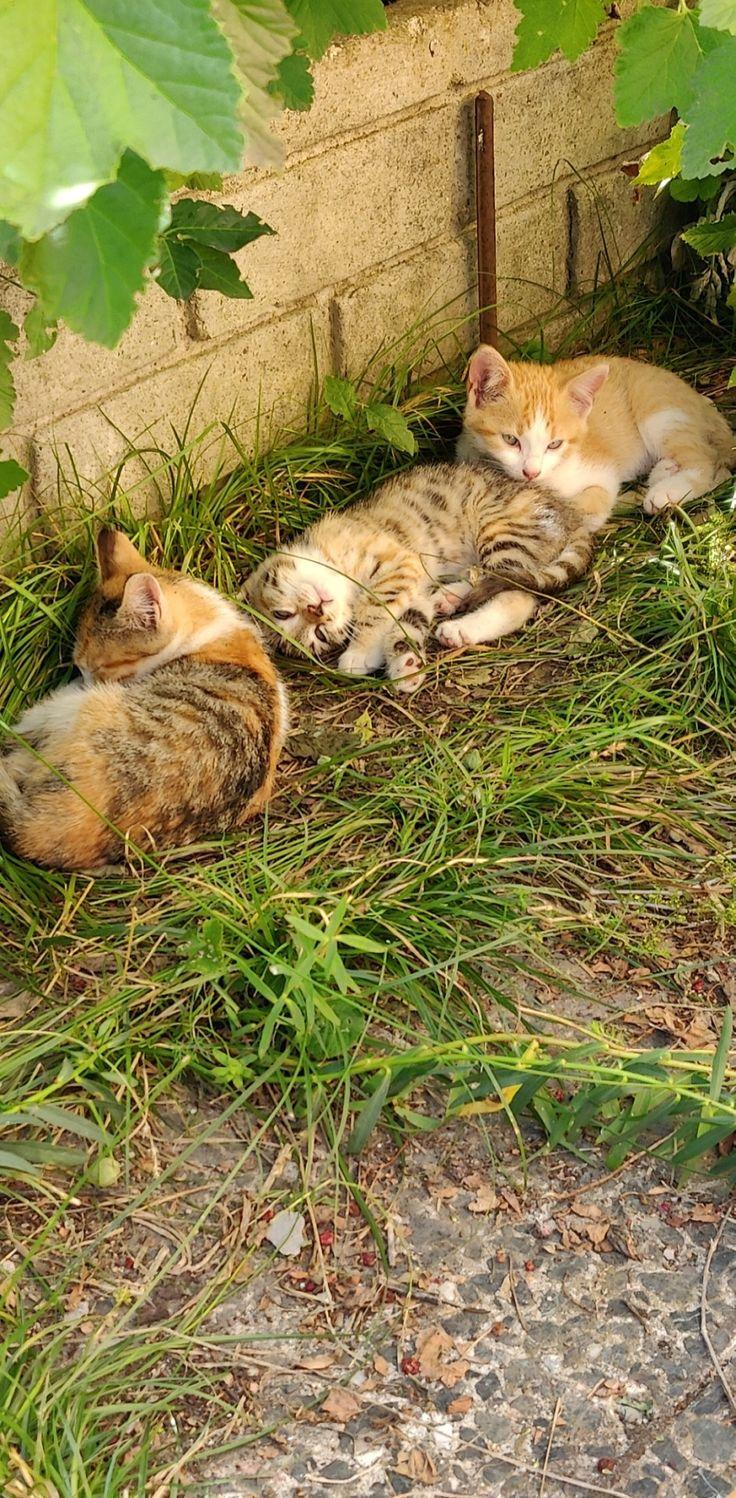kedo: (8, 511, 296, 866), (230, 450, 602, 700), (435, 338, 732, 532)
